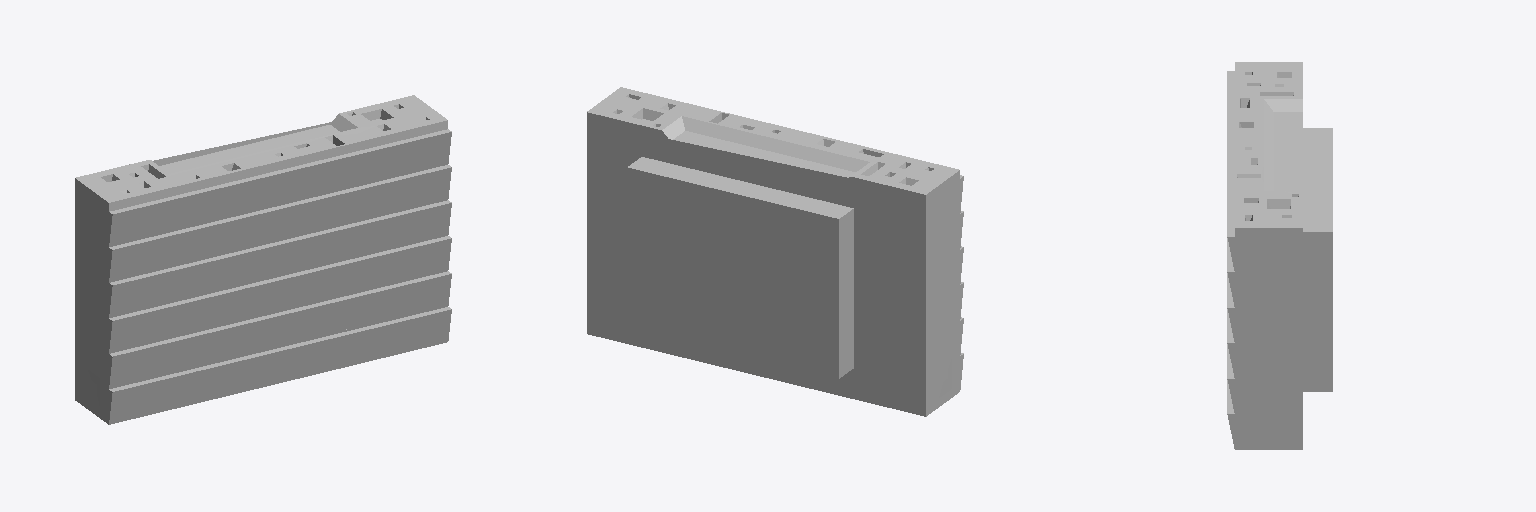
3 renders of one model, left to right at view 1: azimuth 30°, elevation 25°; view 2: azimuth 150°, elevation 25°; view 3: azimuth 270°, elevation 25°, orthographic.
Visible parts, largest first — view 1: OutsideFacade_30, Glazing_DoublePane_LowE_Argon_65, Glazing_DoublePane_LowE_65, WhiteInteriorWall_70, nomaterial; view 2: WhiteInteriorWall_70, OutsideFacade_30, TileFloor_40, Glazing_DoublePane_LowE_65; view 3: OutsideFacade_30, WhiteInteriorWall_70, Glazing_DoublePane_LowE_65, Glazing_DoublePane_LowE_Argon_65.
Part boxes in pixels (left/top/right/bottom): OutsideFacade_30: left=75, top=95, right=451, bottom=424; Glazing_DoublePane_LowE_Argon_65: left=118, top=131, right=442, bottom=389; Glazing_DoublePane_LowE_65: left=75, top=119, right=382, bottom=392; WhiteInteriorWall_70: left=111, top=120, right=447, bottom=371; nomaterial: left=109, top=121, right=447, bottom=211; WhiteInteriorWall_70: left=587, top=113, right=925, bottom=416; OutsideFacade_30: left=587, top=87, right=963, bottom=416; TileFloor_40: left=595, top=118, right=917, bottom=403; Glazing_DoublePane_LowE_65: left=642, top=119, right=955, bottom=385; OutsideFacade_30: left=1227, top=62, right=1302, bottom=449; WhiteInteriorWall_70: left=1303, top=128, right=1332, bottom=391; Glazing_DoublePane_LowE_65: left=1243, top=112, right=1302, bottom=431; Glazing_DoublePane_LowE_Argon_65: left=1228, top=75, right=1234, bottom=409.
Bounding box in the file's own units: 40.01 × 25.01 × 10.75.